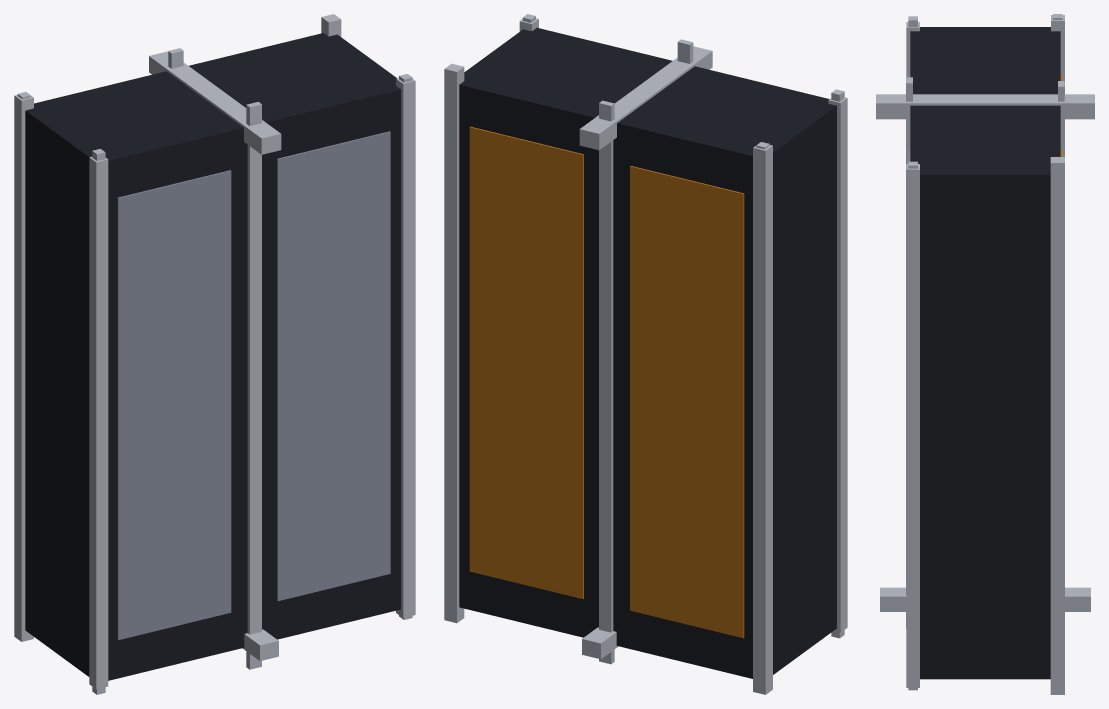
3 renders of one model, left to right at view 1: azimuth 30°, elevation 25°; view 2: azimuth 150°, elevation 25°; view 3: azimuth 270°, elevation 25°, orthographic. The views are drawn at different scales.
Parts seen in each view (by area): view 1: cube6u, cube6u_chasis, cube6u_div_front, cube6u_div_top, cube6u_div_bot; view 2: cube6u, cube6u_chasis, cube6u_div_back, cube6u_div_top, cube6u_div_bot; view 3: cube6u_chasis, cube6u, cube6u_div_top, cube6u_div_bot, cube6u_div_front.
Part boxes in pixels (left/top/right/bottom): cube6u: left=14, top=14, right=415, bottom=694; cube6u_chasis: left=25, top=33, right=400, bottom=680; cube6u_div_front: left=246, top=101, right=261, bottom=669; cube6u_div_top: left=149, top=51, right=281, bottom=154; cube6u_div_bot: left=242, top=629, right=278, bottom=660; cube6u: left=444, top=14, right=847, bottom=694; cube6u_chasis: left=459, top=27, right=836, bottom=678; cube6u_div_back: left=599, top=100, right=614, bottom=664; cube6u_div_top: left=579, top=46, right=712, bottom=150; cube6u_div_bot: left=582, top=627, right=618, bottom=659; cube6u_chasis: left=910, top=27, right=1060, bottom=679; cube6u: left=906, top=14, right=1064, bottom=694; cube6u_div_top: left=876, top=94, right=1094, bottom=119; cube6u_div_bot: left=880, top=587, right=1090, bottom=611; cube6u_div_front: left=906, top=77, right=912, bottom=628.
Bounding box in the file's own units: 0.2264 × 0.3808 × 0.1384.
